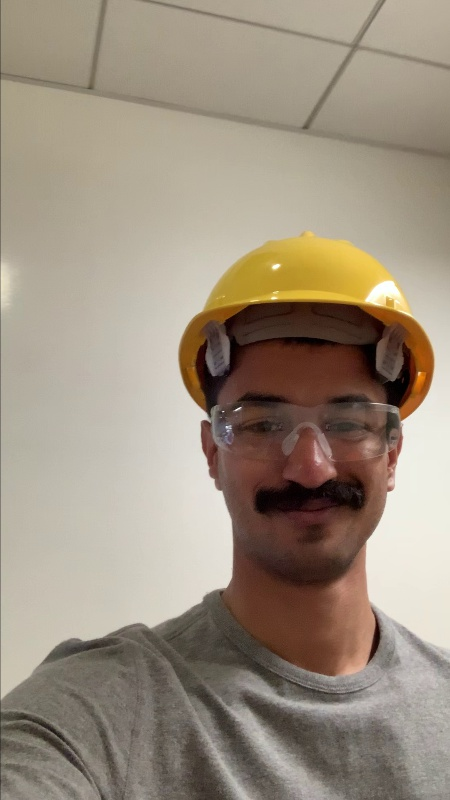glasses: (206, 397, 403, 450)
helmet: (179, 229, 430, 345)
